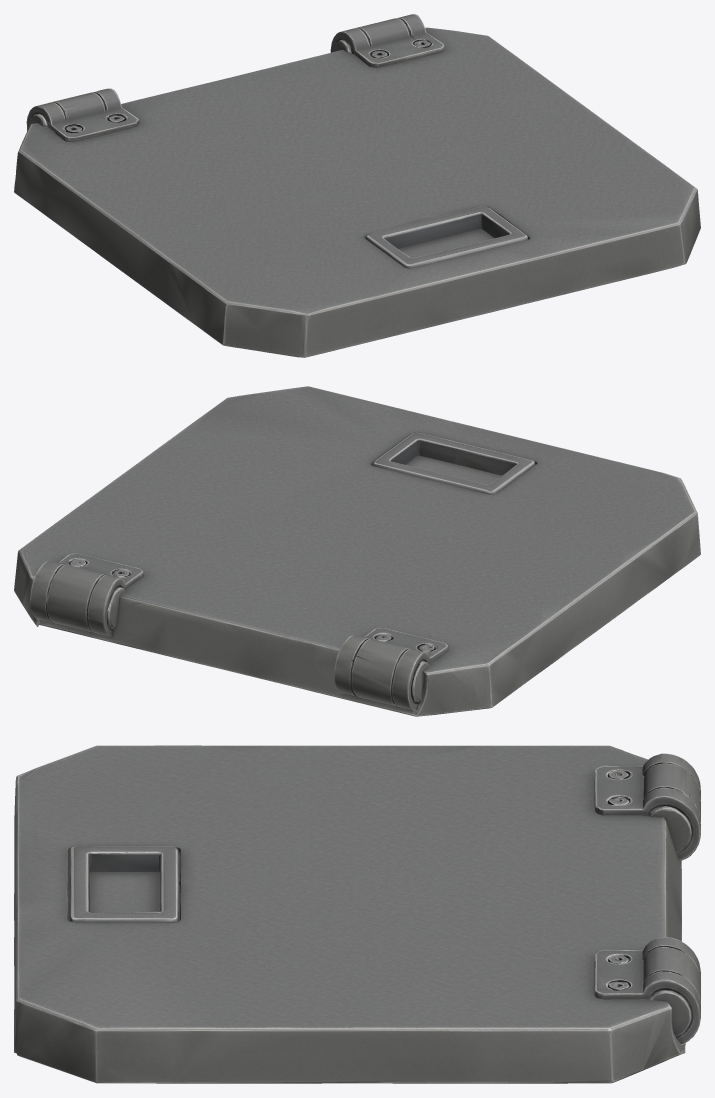
File: imperial_armoured_bunker__roof_hatch.glb
The picture shows the model from 3 angles, top to bottom: view 1: azimuth 30°, elevation 25°; view 2: azimuth 150°, elevation 25°; view 3: azimuth 270°, elevation 25°; orthographic projection. The views are drawn at different scales.
Parts seen in each view (by area): view 1: mesh_node; view 2: mesh_node; view 3: mesh_node.
Part boxes in pixels (<box>): mesh_node: <box>14,14,700,357</box>; mesh_node: <box>14,386,700,716</box>; mesh_node: <box>14,745,700,1083</box>.
Bounding box in the file's own units: 1.95 × 0.2305 × 1.96.
Materials: 1 (1 with a texture image).
